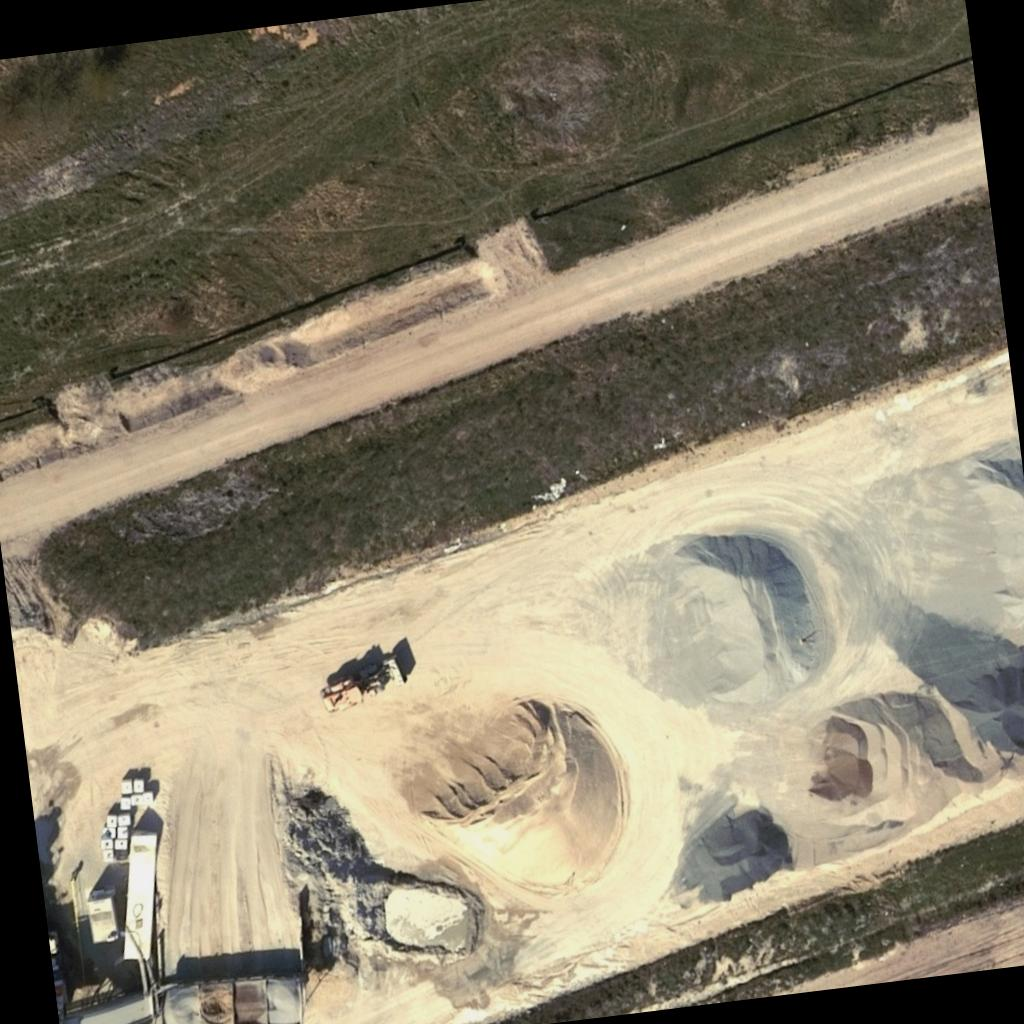spychacz: (312, 652, 418, 716)
